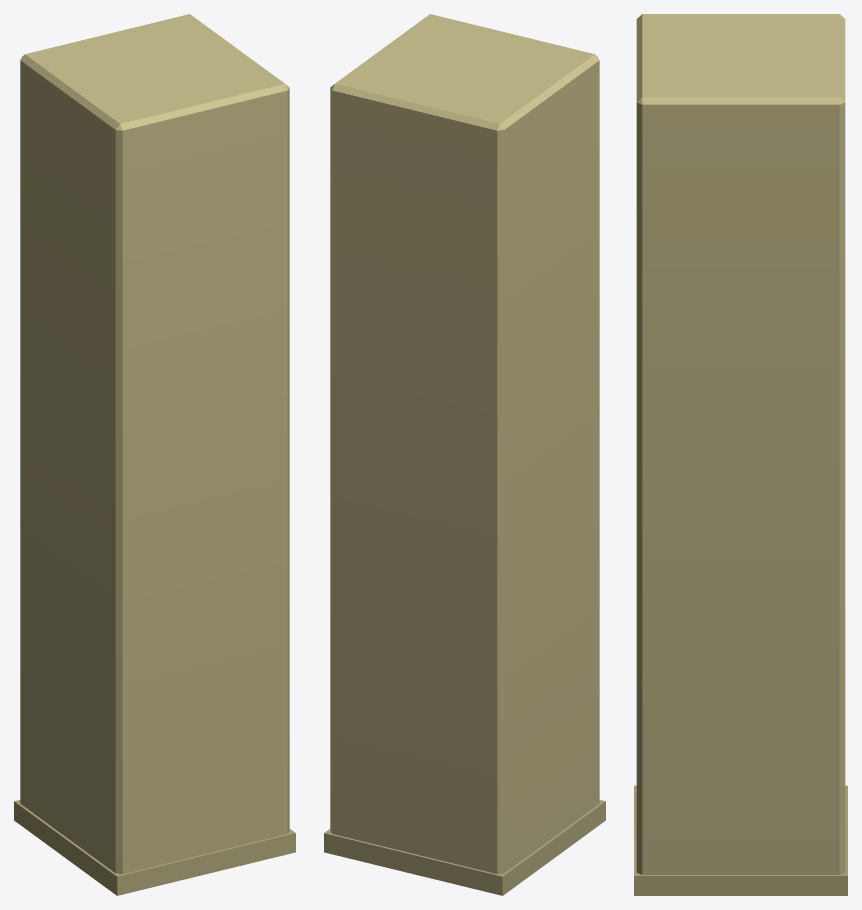
The model's file is BR_Pillar.glb.
3 renders of one model, left to right at view 1: azimuth 30°, elevation 25°; view 2: azimuth 150°, elevation 25°; view 3: azimuth 270°, elevation 25°, orthographic. The views are drawn at different scales.
Visible parts, largest first — view 1: Body; view 2: Body; view 3: Body.
Part boxes in pixels (x1,y1,x2,y2): Body: (14,14,295,895); Body: (324,14,605,895); Body: (634,14,847,895).
Bounding box in the file's own units: 3.9 × 16 × 3.9.
